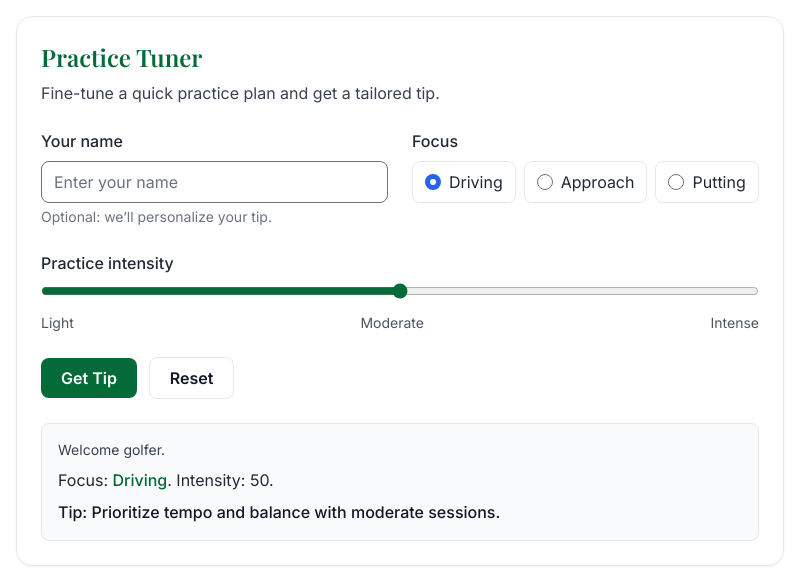
Test: EngagementWidget › submits, shows feedback, and tracks event
Type "Ava" into the field labelled "Your name".
click(214, 182); type("Ava")  # box x1=41 y1=161 x2=388 y2=203
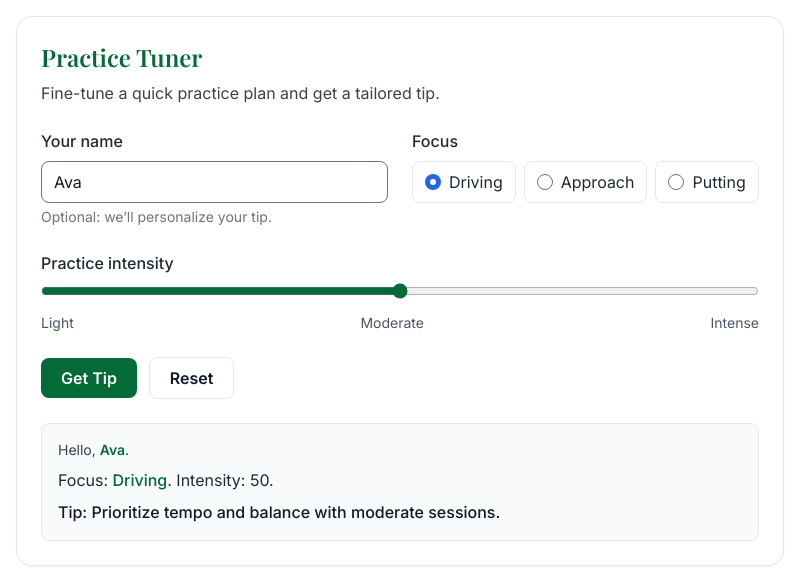
Click the radio button labelled "Approach".
click(545, 182)  # box x1=537 y1=174 x2=553 y2=190
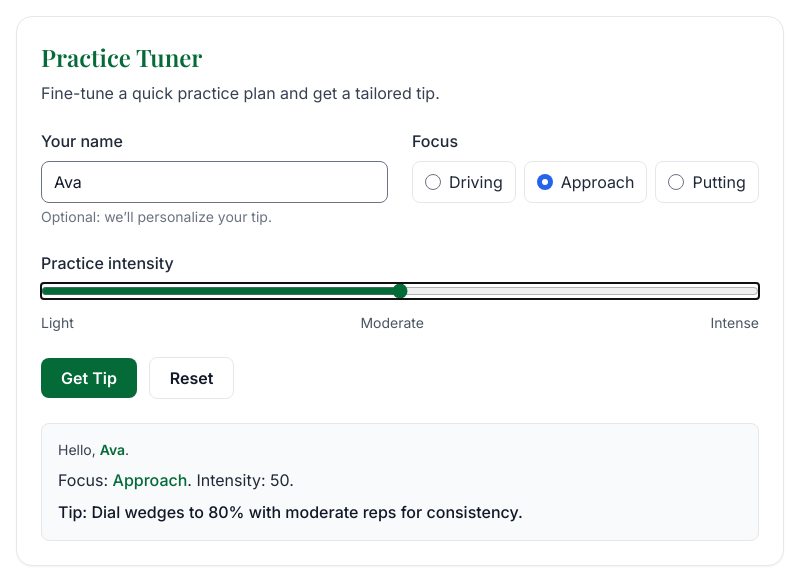
Press ArrowRight in the slider named "Practice intensity slider", box x1=41 y1=283 x2=759 y2=299
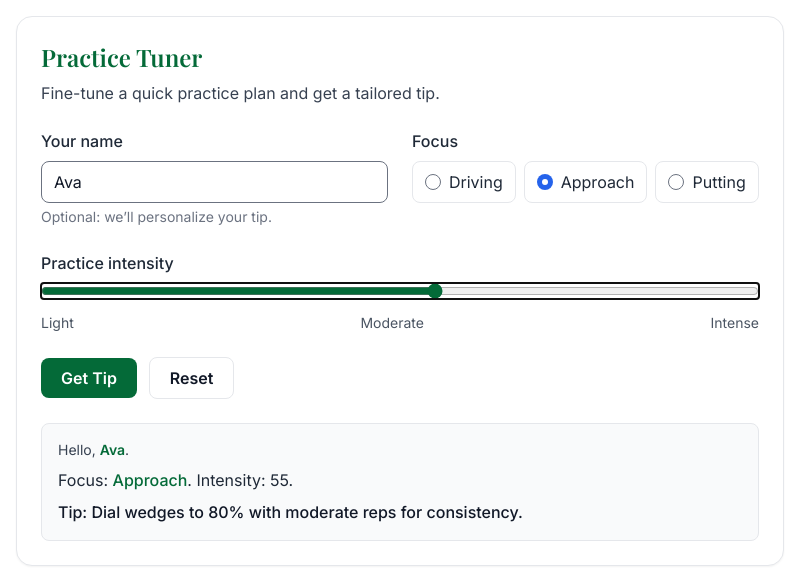
Press ArrowRight in the slider named "Practice intensity slider", box x1=41 y1=283 x2=759 y2=299
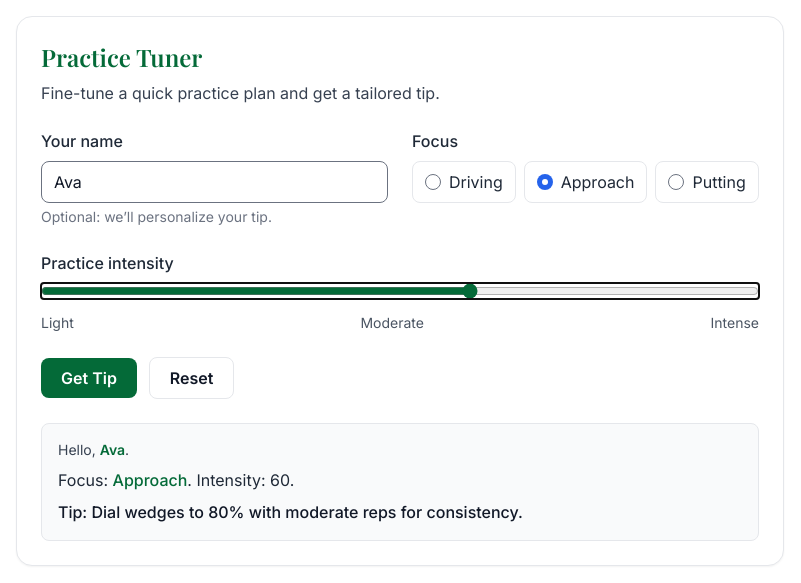
Press ArrowRight in the slider named "Practice intensity slider", box x1=41 y1=283 x2=759 y2=299
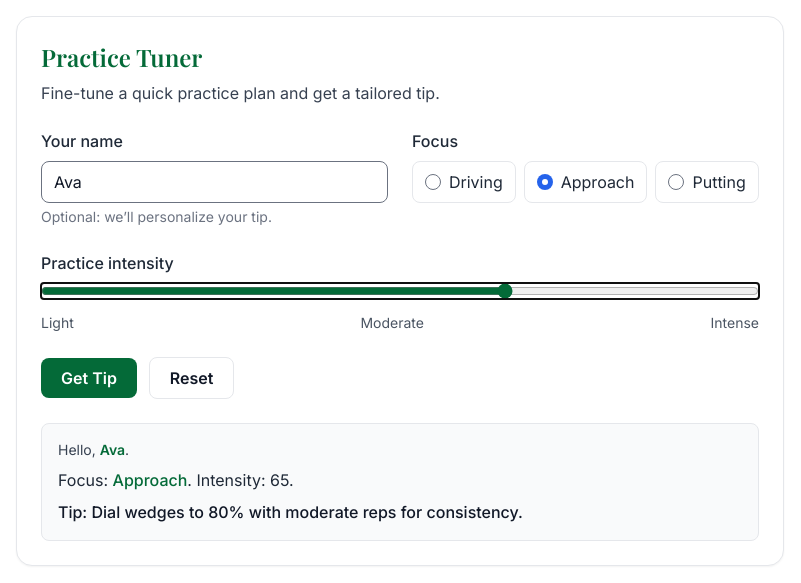
Click the button with aria-label "Get practice tip".
click(89, 378)  # box x1=41 y1=358 x2=137 y2=398
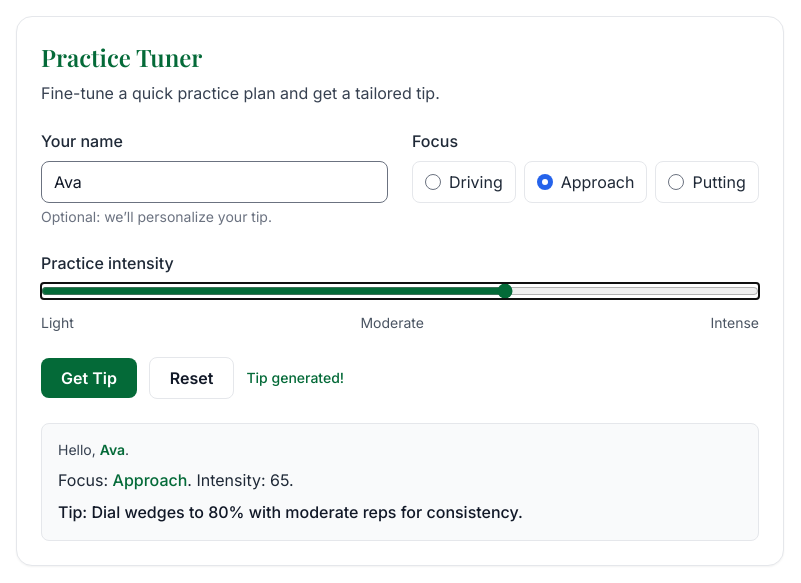
Result: the text "Tip generated!" is shown at x1=246 y1=368 x2=344 y2=388
